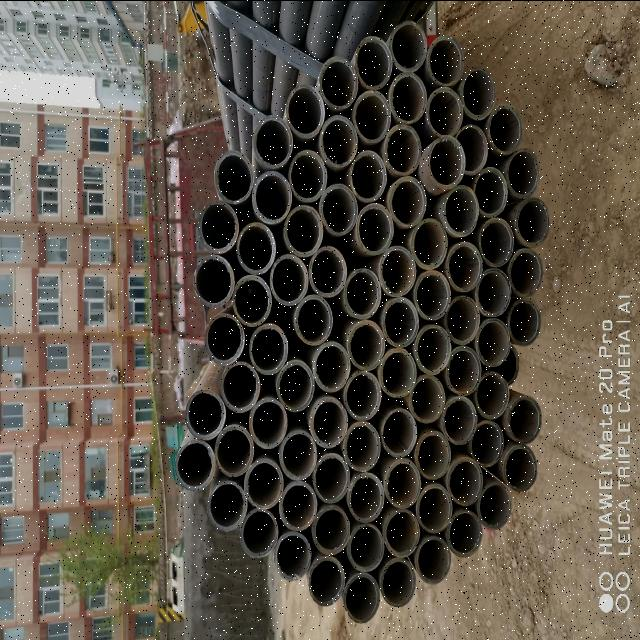pipe: (212, 146, 254, 206), (234, 218, 276, 278), (212, 422, 255, 480), (250, 114, 294, 170), (196, 199, 239, 255), (250, 167, 292, 224), (206, 478, 248, 534), (193, 252, 235, 308), (243, 456, 285, 512), (282, 202, 324, 258), (317, 54, 359, 110), (248, 394, 288, 452), (274, 356, 314, 414), (285, 82, 325, 140), (353, 34, 393, 92), (184, 388, 226, 442), (219, 360, 261, 414), (203, 313, 245, 367), (238, 506, 280, 560), (276, 479, 318, 533), (231, 272, 271, 328), (308, 394, 348, 450), (312, 338, 352, 394), (318, 181, 358, 237), (318, 114, 358, 170), (342, 368, 382, 424), (355, 200, 395, 256), (412, 268, 452, 324), (408, 216, 448, 272), (268, 253, 310, 306), (378, 243, 417, 300), (310, 504, 351, 558), (342, 419, 382, 474), (382, 121, 422, 176), (174, 440, 216, 492), (292, 293, 334, 345), (248, 322, 288, 376), (278, 428, 318, 482), (287, 148, 327, 202), (311, 450, 351, 504), (308, 245, 348, 299), (346, 471, 386, 525), (346, 318, 386, 372), (342, 267, 382, 321), (352, 89, 392, 143), (388, 18, 428, 72), (388, 70, 428, 124), (387, 174, 427, 228), (380, 295, 420, 349), (382, 457, 422, 511), (444, 240, 484, 294), (442, 182, 480, 238), (427, 134, 466, 188), (306, 555, 346, 607), (346, 521, 386, 573), (378, 348, 418, 400), (412, 324, 452, 376), (425, 34, 465, 86), (476, 214, 516, 266), (343, 570, 381, 624), (380, 406, 418, 460), (425, 85, 463, 139), (458, 66, 496, 120), (486, 102, 524, 156), (408, 372, 447, 424), (349, 150, 387, 203), (274, 530, 312, 582), (378, 556, 416, 608), (415, 482, 453, 534), (413, 429, 451, 481), (446, 454, 484, 506), (440, 394, 478, 446), (474, 316, 512, 368), (512, 196, 550, 248), (507, 245, 544, 298), (382, 508, 421, 558), (473, 267, 512, 317), (414, 535, 452, 586), (506, 145, 540, 201), (446, 345, 482, 397), (444, 294, 480, 346), (472, 165, 508, 217), (506, 394, 542, 446), (445, 509, 483, 558), (454, 122, 488, 176), (476, 481, 512, 531), (506, 298, 542, 348), (472, 371, 510, 418), (468, 420, 504, 468), (502, 444, 538, 492), (486, 343, 520, 388)
